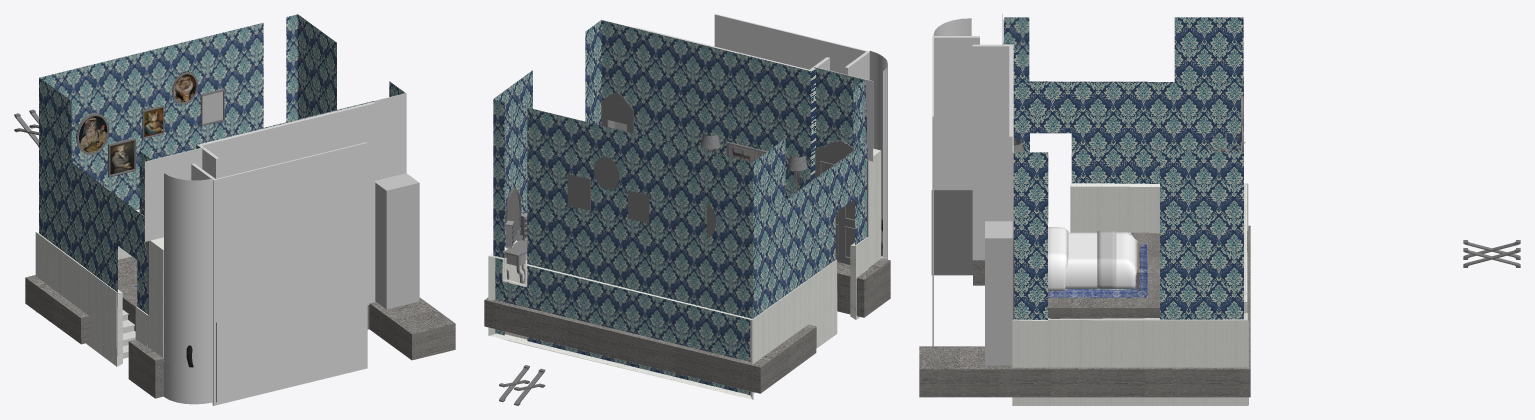
The model's file is player_room.fbx.
3 renders of one model, left to right at view 1: azimuth 30°, elevation 25°; view 2: azimuth 150°, elevation 25°; view 3: azimuth 270°, elevation 25°, orthographic. The views are drawn at different scales.
Visible parts, largest first — view 1: Cube.015, Cube.003, Stairs.001, Cube.008, Cube.036, Cube.013, Cube.040, Cube.009, Cube.014, Cube.030, Circle.014, Cube.047 (+4 smaller); view 2: Cube.015, Cube.008, Cube.040, Cube.003, Stairs.001, Cube.030, Cube.041, Cube.035, Cube.051, Cube.044, Cube.014, Circle.013 (+6 smaller); view 3: Cube.015, Cube.040, Cube.008, Cube.036, Cube.003, Plane.001, Cube.013, Cube.002, Cube.012, Plane, Plane.002, Cube.017 (+1 smaller).
Boxes of the visible parts, x1=… form: Cube.015: x1=39, y1=14, x2=404, y2=314; Cube.003: x1=191, y1=142, x2=367, y2=405; Stairs.001: x1=164, y1=173, x2=212, y2=404; Cube.008: x1=25, y1=256, x2=455, y2=398; Cube.036: x1=197, y1=102, x2=375, y2=304; Cube.013: x1=375, y1=173, x2=419, y2=309; Cube.040: x1=35, y1=209, x2=148, y2=366; Cube.009: x1=373, y1=93, x2=406, y2=180; Cube.014: x1=144, y1=147, x2=203, y2=241; Cube.030: x1=150, y1=237, x2=163, y2=357; Circle.014: x1=79, y1=116, x2=107, y2=152; Cube.047: x1=110, y1=140, x2=133, y2=177; Cube.015: x1=493, y1=20, x2=867, y2=394; Cube.008: x1=484, y1=258, x2=890, y2=393; Cube.040: x1=488, y1=237, x2=868, y2=399; Cube.003: x1=714, y1=14, x2=869, y2=79; Stairs.001: x1=869, y1=51, x2=887, y2=259; Cube.030: x1=868, y1=148, x2=881, y2=267; Cube.041: x1=841, y1=140, x2=868, y2=264; Cube.035: x1=815, y1=140, x2=841, y2=262; Cube.051: x1=601, y1=92, x2=633, y2=133; Cube.044: x1=567, y1=174, x2=590, y2=210; Cube.014: x1=814, y1=67, x2=873, y2=161; Circle.013: x1=594, y1=156, x2=619, y2=189; Cube.015: x1=1003, y1=17, x2=1243, y2=319; Cube.040: x1=1012, y1=182, x2=1248, y2=405; Cube.008: x1=919, y1=225, x2=1250, y2=397; Cube.036: x1=972, y1=44, x2=1013, y2=260; Cube.003: x1=932, y1=36, x2=979, y2=346; Plane.001: x1=1048, y1=227, x2=1138, y2=291; Cube.013: x1=985, y1=221, x2=1012, y2=365; Cube.002: x1=952, y1=190, x2=972, y2=275; Cube.012: x1=931, y1=190, x2=952, y2=275; Plane: x1=1048, y1=243, x2=1147, y2=297; Plane.002: x1=1097, y1=231, x2=1116, y2=288; Cube.017: x1=1463, y1=240, x2=1520, y2=267.
Bounding box in the file's own units: 486 × 399 × 859.
